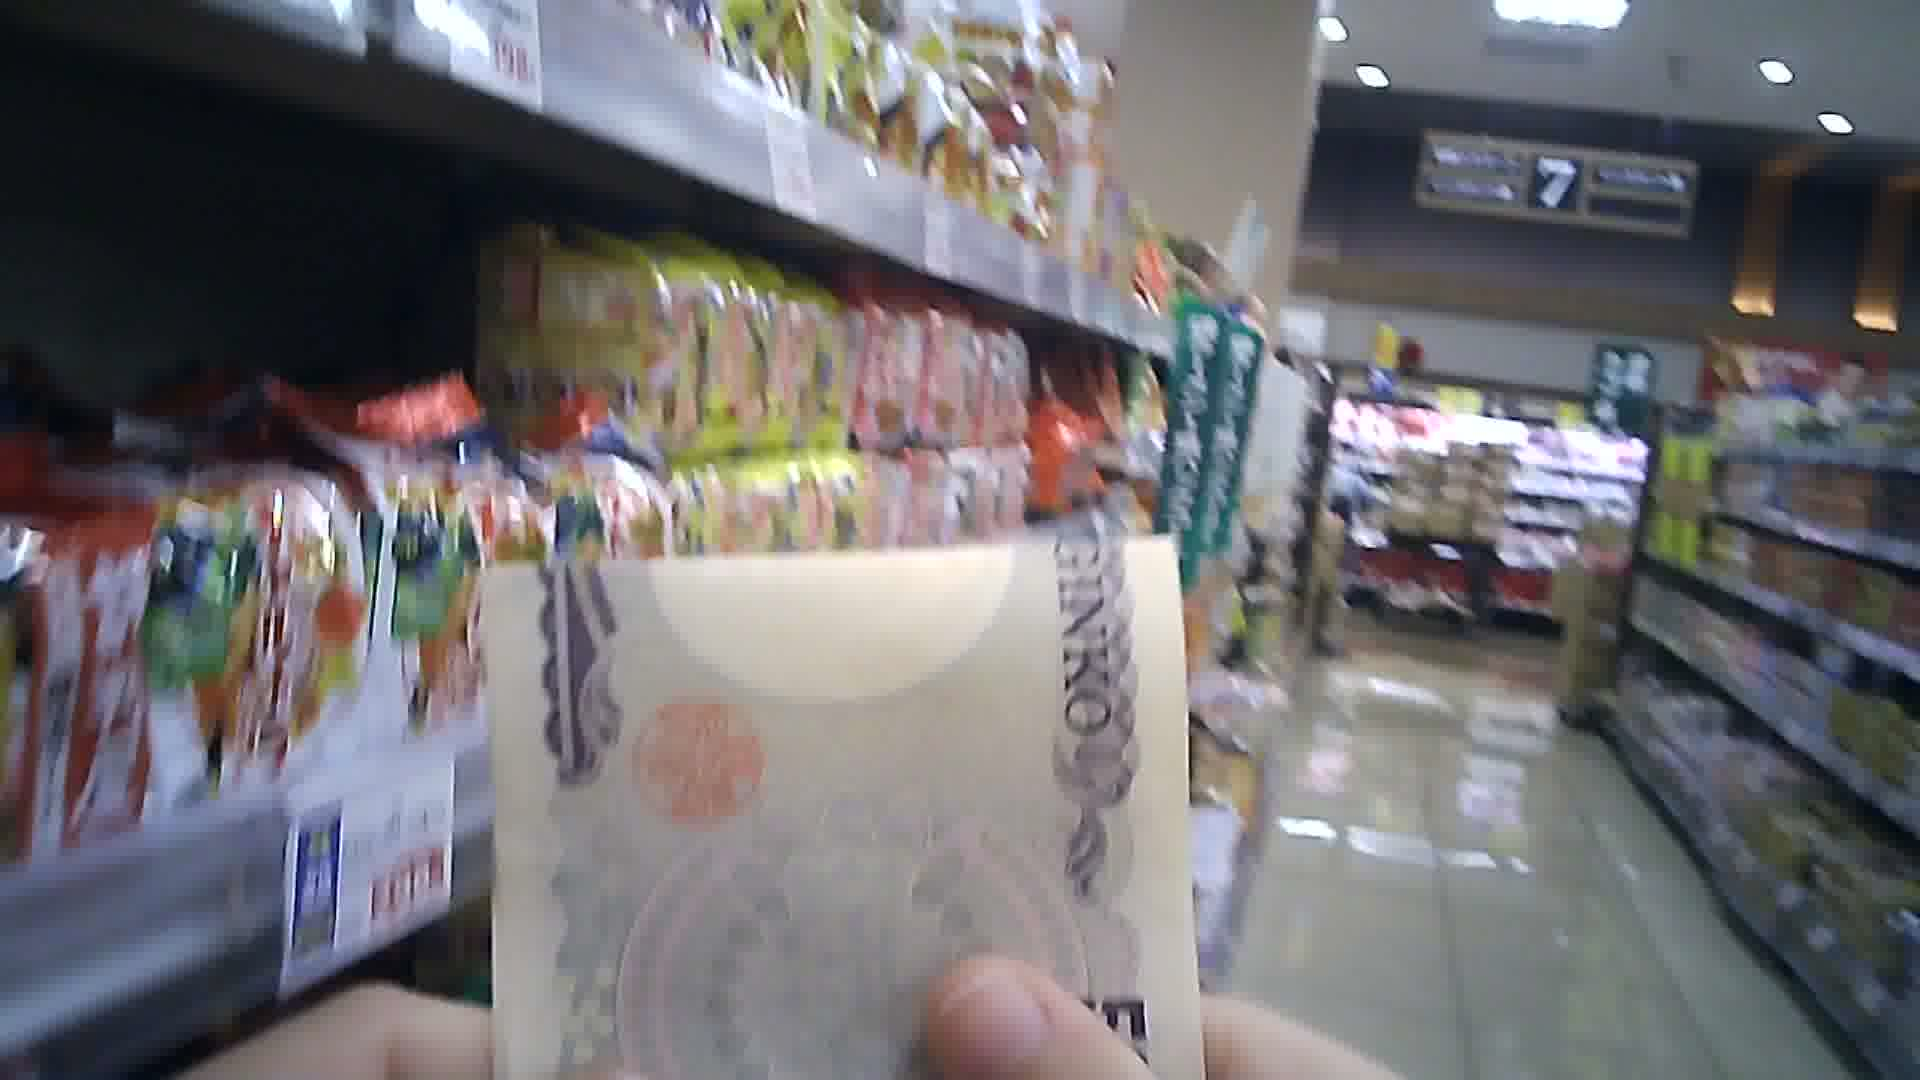5,000 Yen: (469, 502, 1203, 1079)
